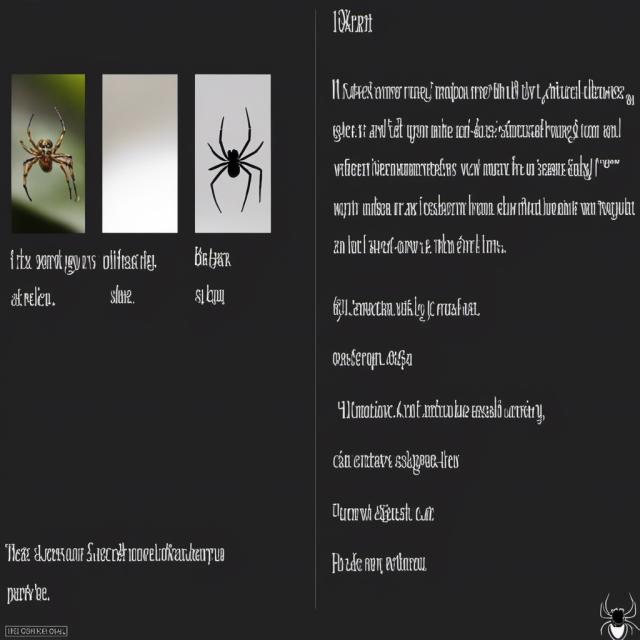spider: (194, 118, 263, 224), (13, 105, 82, 204)
